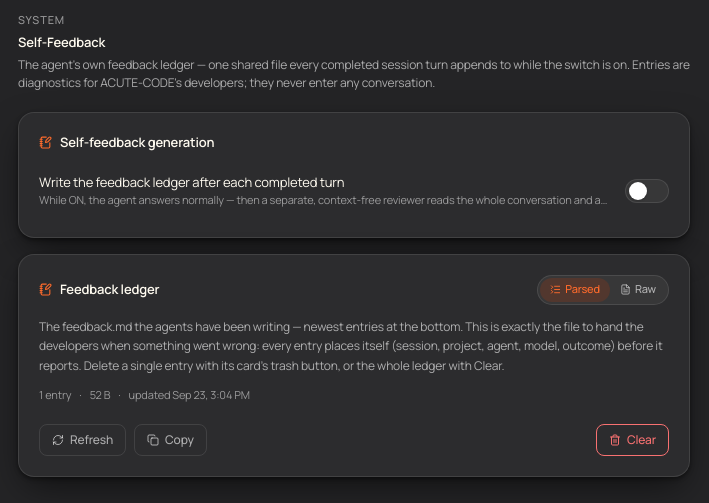
Test: R122: the feedback ledger viewer card › Copy writes the WHOLE raw file to the clipboard
Click the button with test id "feedback-copy-button": (170, 440) [134,424,207,456]
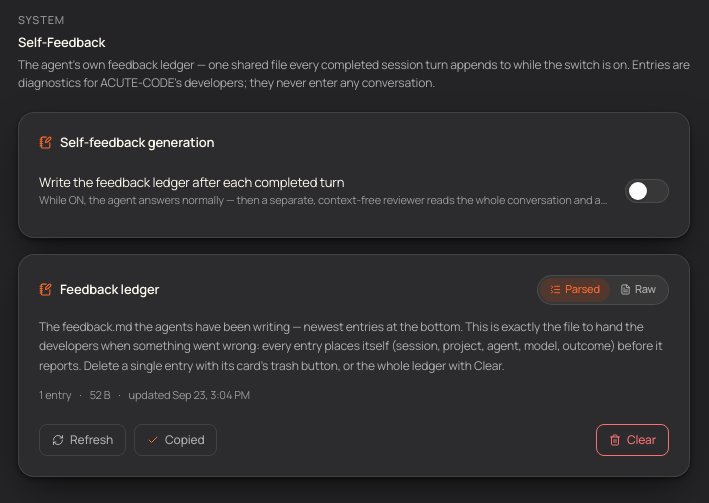
Check: the button "Copied" is shown, box [134,424,218,456]
